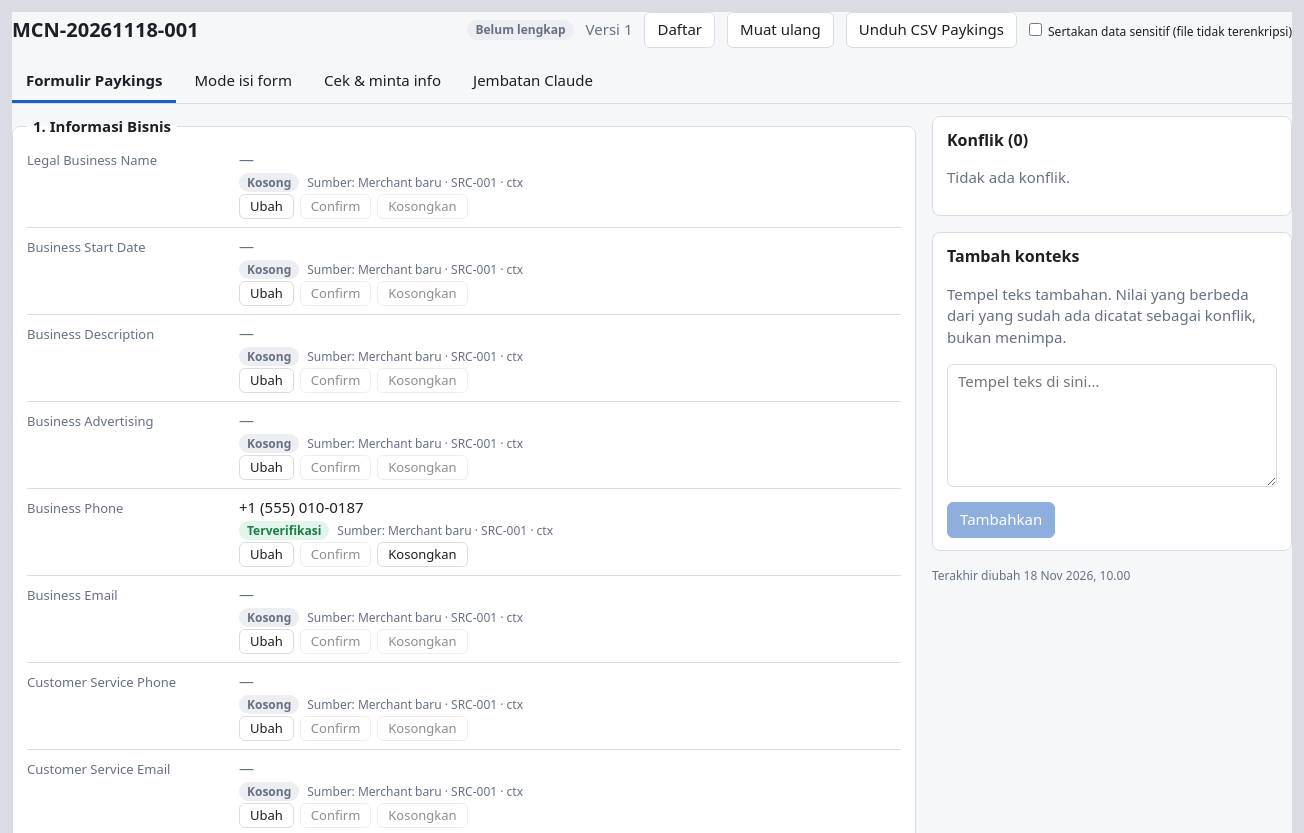
Test: Workspace › shows another server error exactly as sent
Click the button "Ubah" below "Business Phone": point(266, 555) [239,542,294,567]
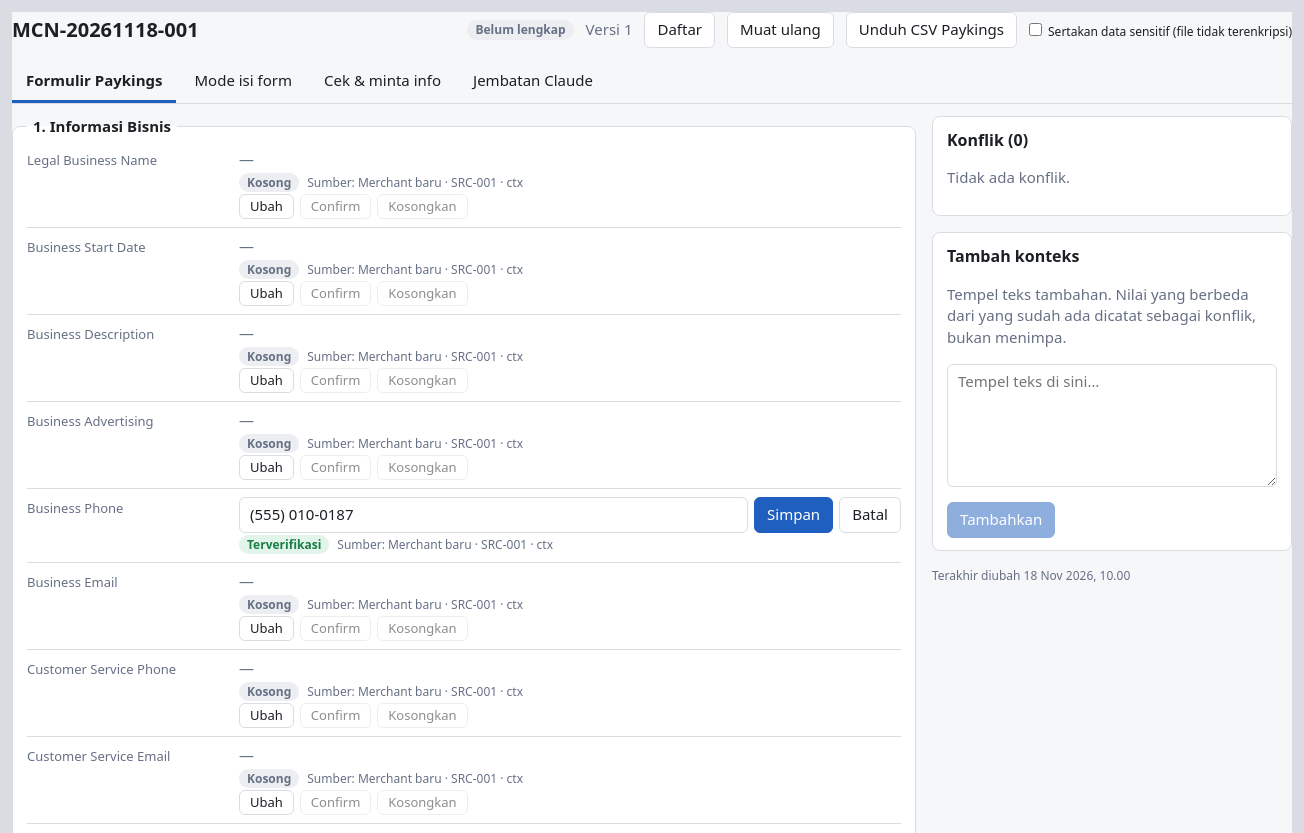
In the field named "Nilai Business Phone": point(494, 515) [239,497,748,533], type "abc"
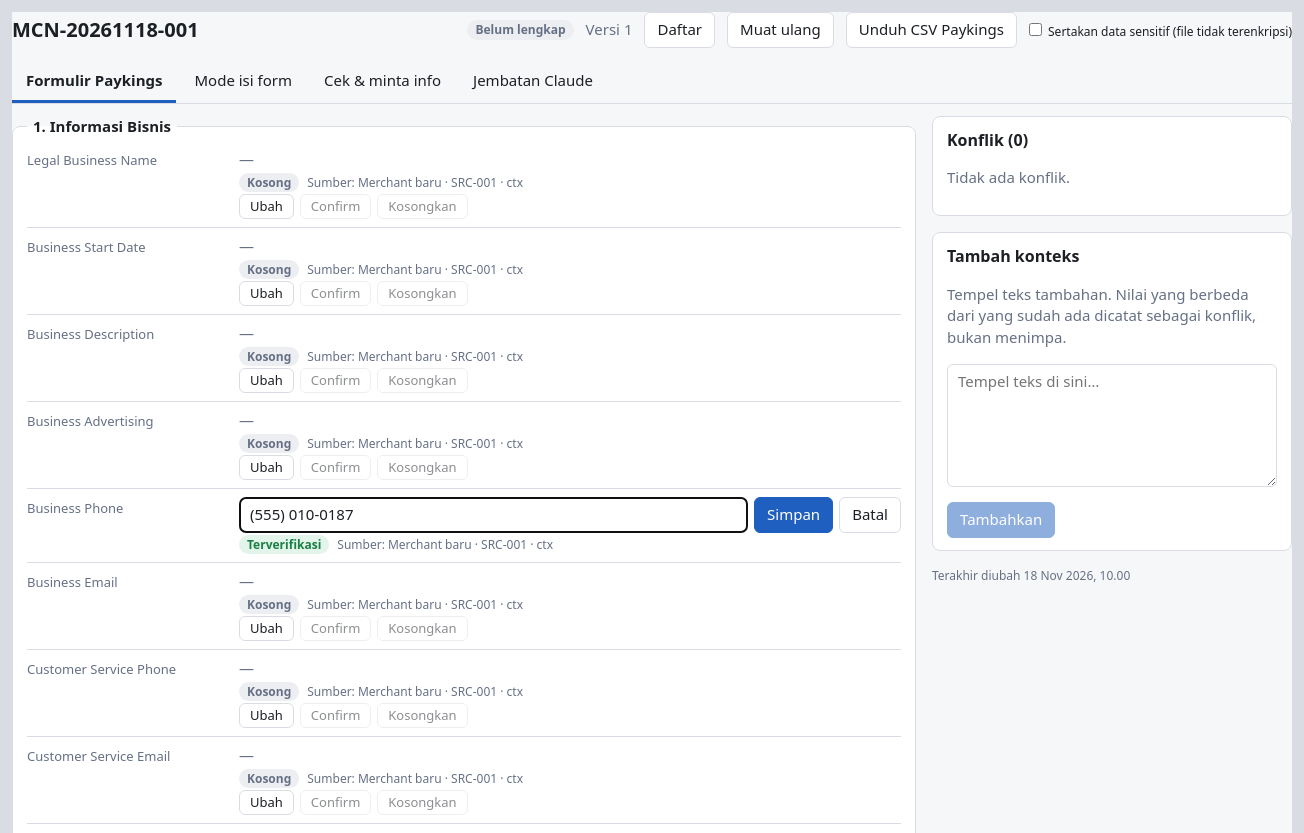
Click the button "Simpan": point(794, 515) [754,497,833,533]
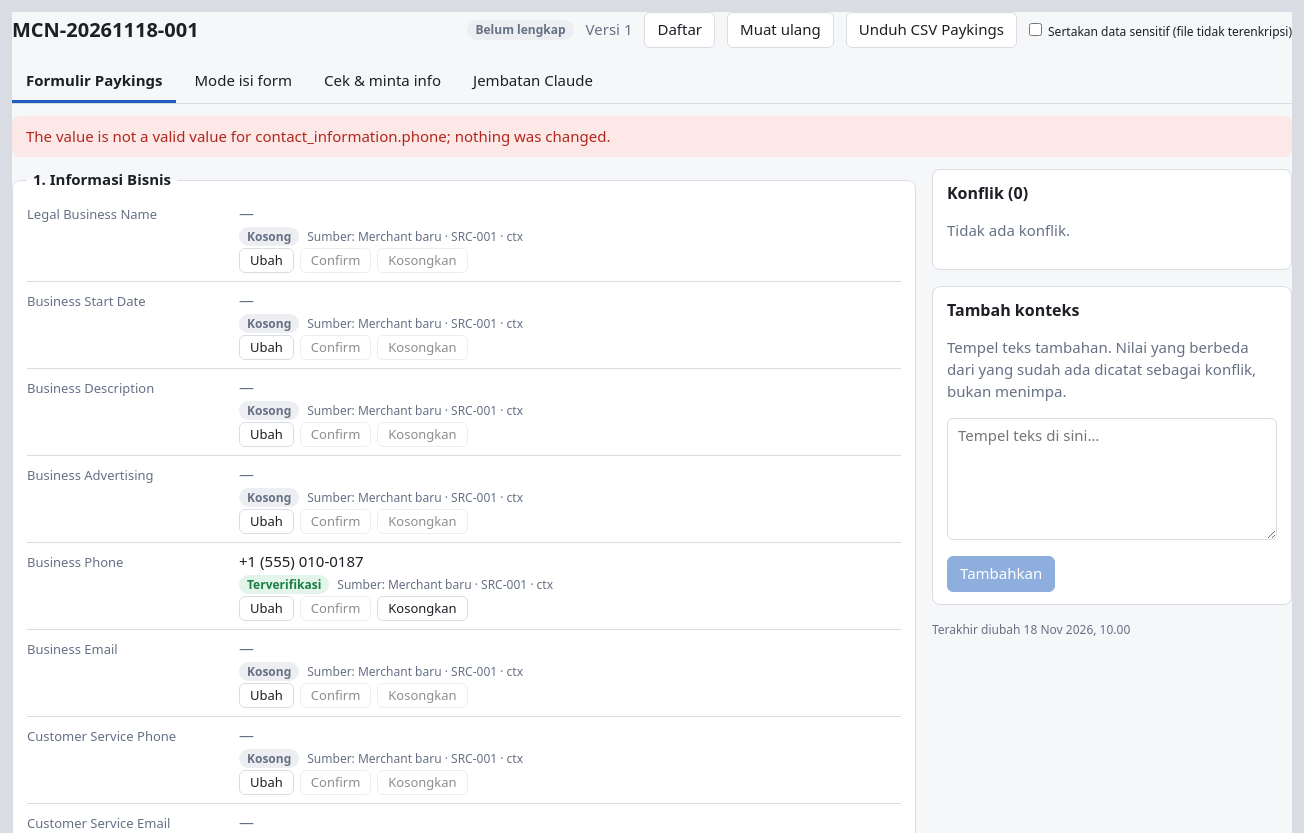
Expected: the text "The value is not a valid value for contact_information.phone; nothing was changed." is shown, [26,126,610,146]
